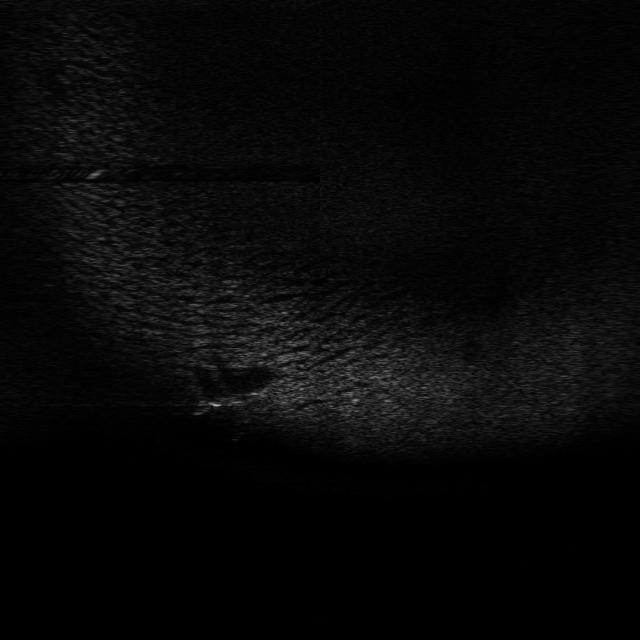plane: (190, 387, 270, 418)
